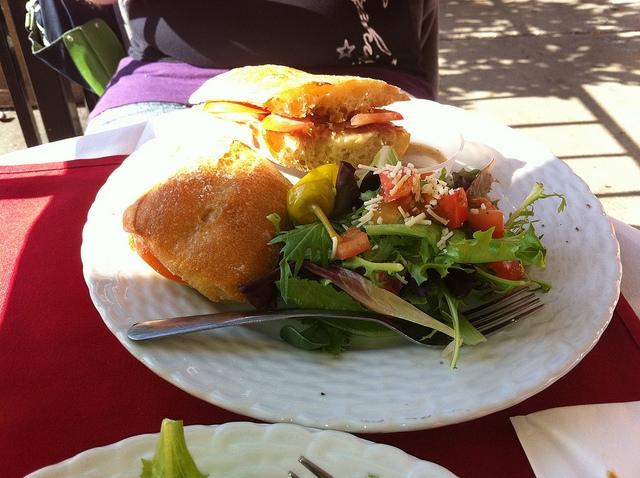tomato: (136, 240, 194, 288), (413, 188, 468, 228), (369, 195, 422, 224), (260, 114, 320, 136), (335, 226, 371, 260), (466, 207, 502, 239), (379, 170, 413, 202), (350, 108, 404, 126), (484, 260, 528, 280), (378, 280, 399, 298)
